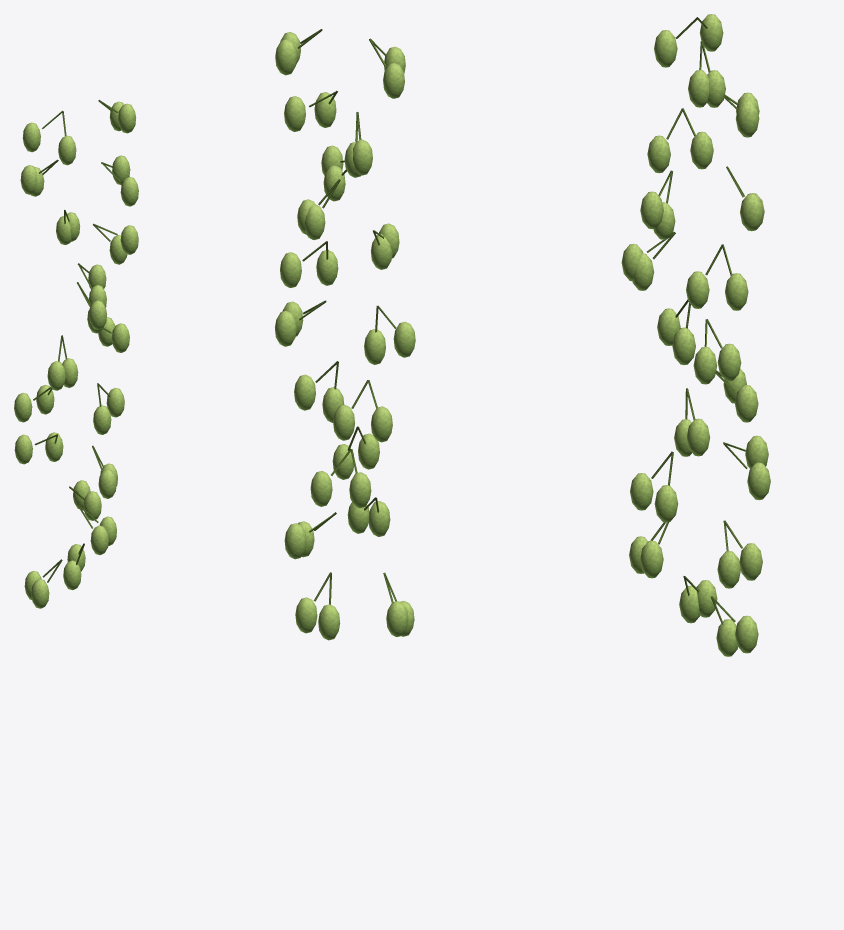
The model's file is hopsfruit.glb.
3 renders of one model, left to right at view 1: azimuth 30°, elevation 25°; view 2: azimuth 150°, elevation 25°; view 3: azimuth 270°, elevation 25°, orthographic. The views are drawn at different scales.
Visible parts, largest first — view 1: hopsfruit; view 2: hopsfruit; view 3: hopsfruit.
Boxes of the visible parts, box(x1,y1,x2,y2) form: hopsfruit: box(14, 100, 138, 608); hopsfruit: box(275, 29, 415, 640); hopsfruit: box(621, 14, 770, 656).
Size of the model in its own units: 0.4063 by 1.56 by 0.3899.
1 material, 1 textured.
